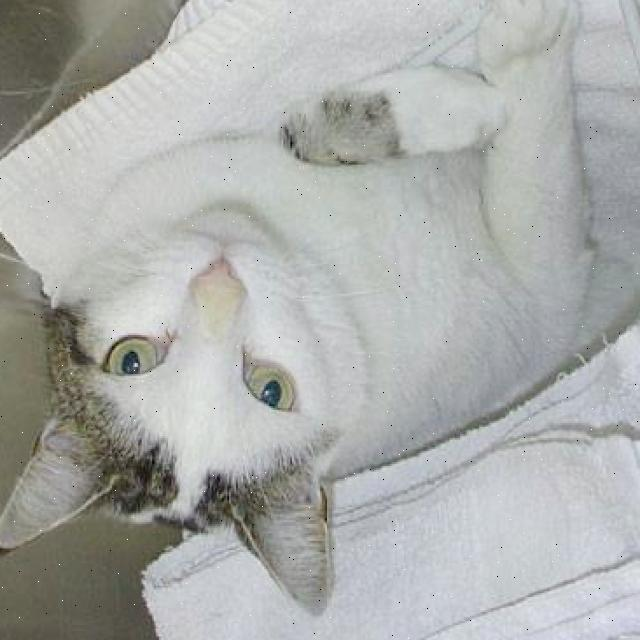Cat: (0, 206, 406, 619)
